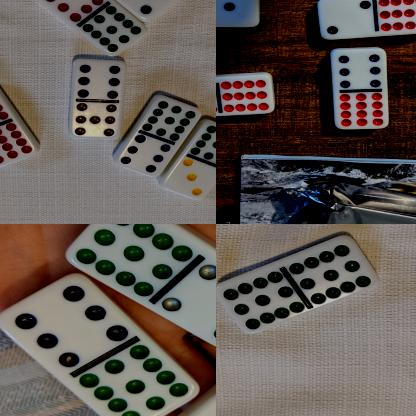pip-1: (216, 0, 259, 28)
pip-11: (76, 224, 191, 298), (79, 345, 197, 416), (288, 236, 378, 305), (216, 271, 304, 333), (81, 8, 141, 57), (142, 97, 202, 141), (189, 121, 216, 166)
pip-12: (217, 76, 274, 116), (332, 91, 388, 131), (0, 122, 34, 167), (375, 0, 416, 34)
pip-2: (317, 0, 374, 39)
pip-3: (164, 159, 216, 201)
pip-4: (161, 263, 216, 348)
pip-5: (119, 0, 180, 19)
pip-6: (0, 285, 127, 367), (329, 47, 387, 93), (115, 134, 170, 178), (73, 59, 124, 101)
pip-7: (70, 101, 120, 138)
pip-8: (37, 0, 103, 22)
